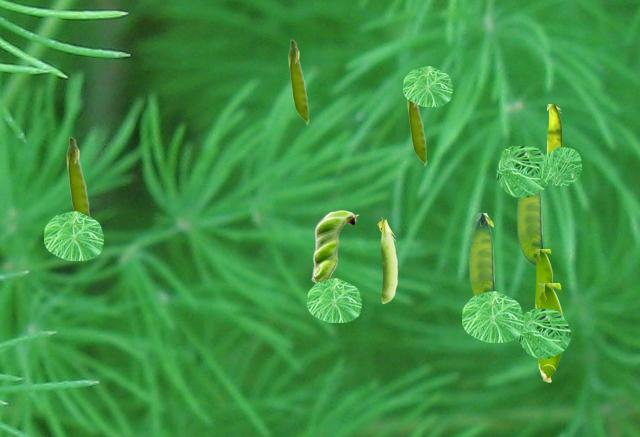pea: (311, 210, 358, 282), (538, 283, 562, 381), (469, 213, 493, 295), (66, 136, 90, 215), (517, 193, 541, 266), (288, 39, 308, 124), (377, 217, 396, 302), (407, 100, 426, 165), (535, 249, 551, 308), (547, 104, 561, 151)
